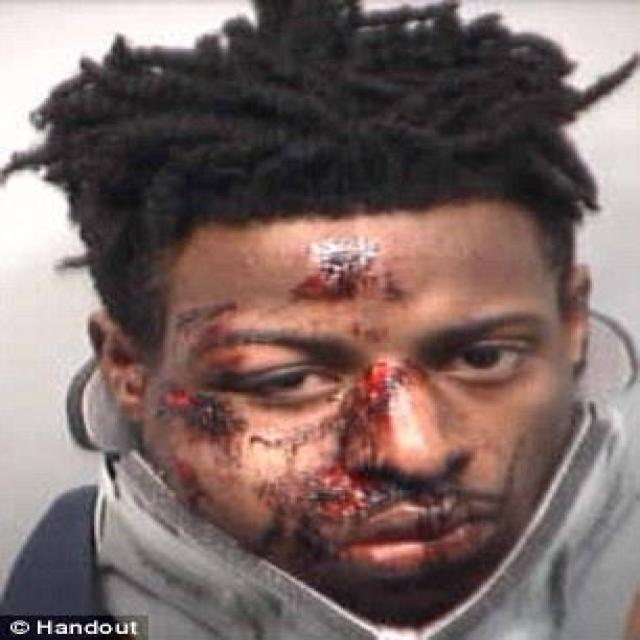flood: (141, 246, 490, 589)
